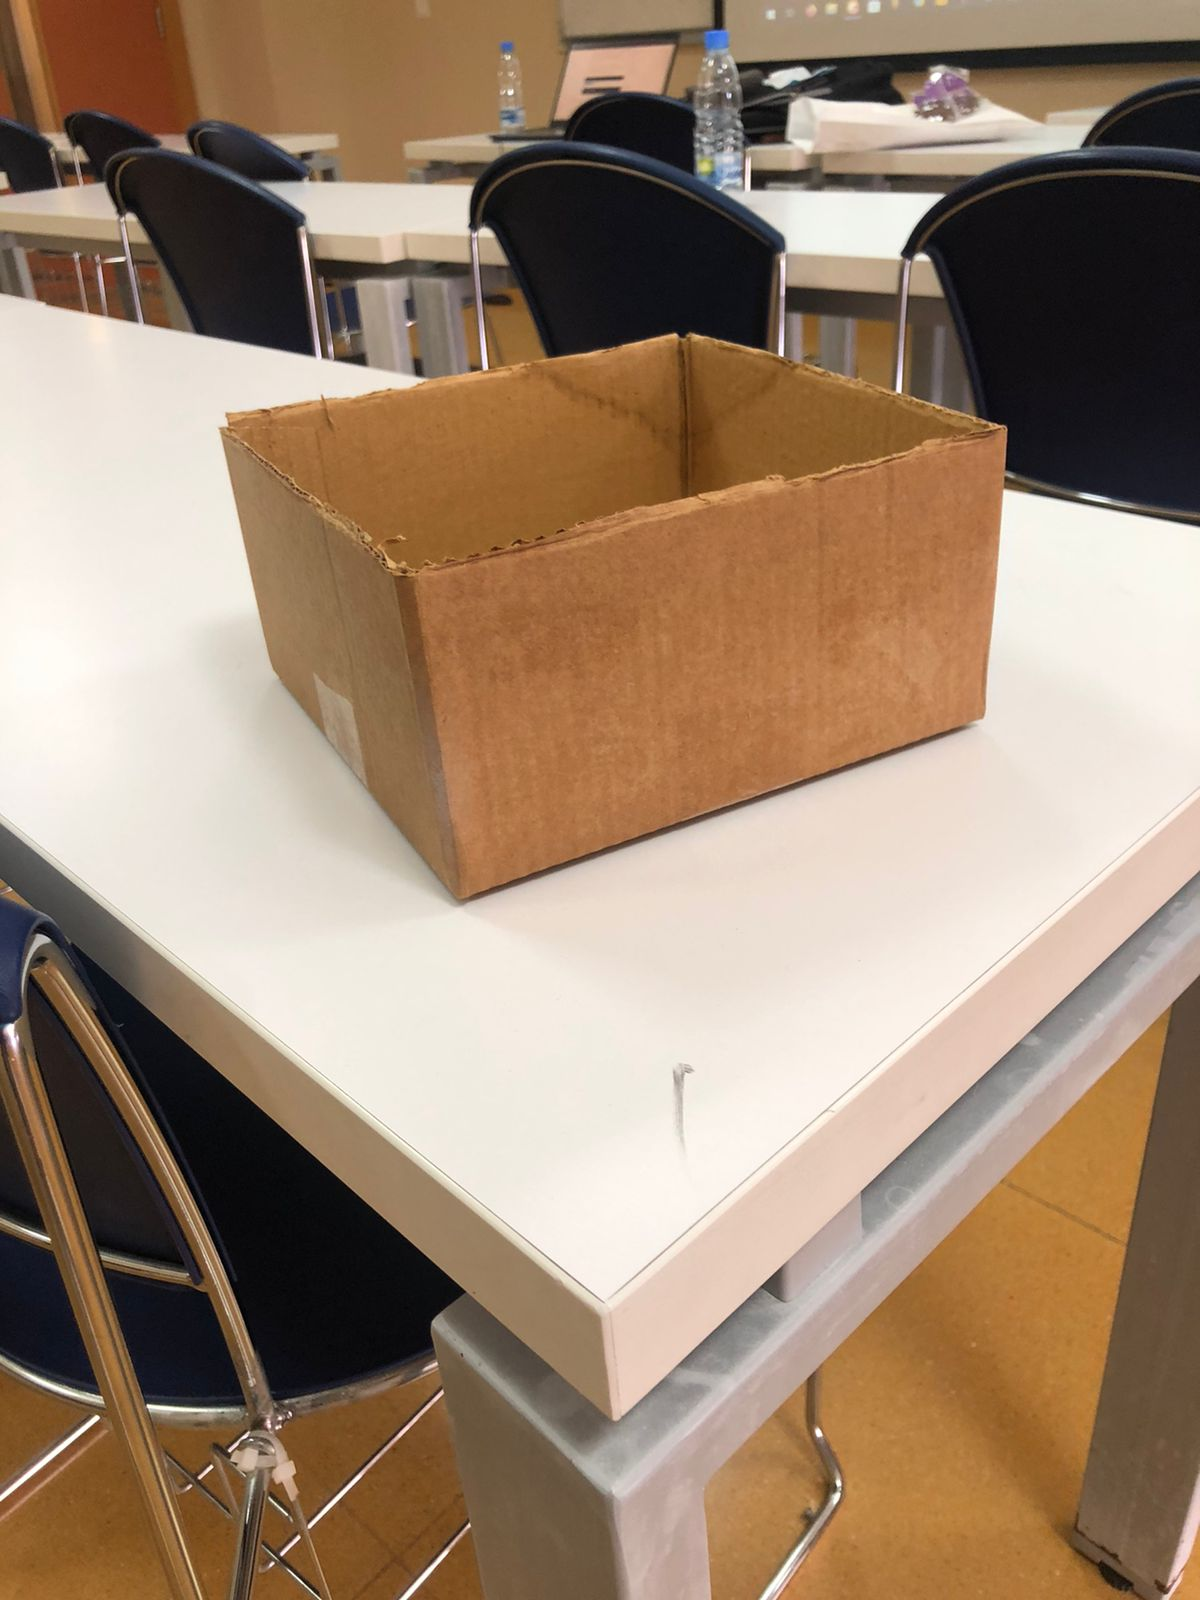CBox: (214, 326, 1013, 902)
